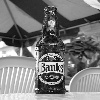beer: (36, 3, 67, 96)
